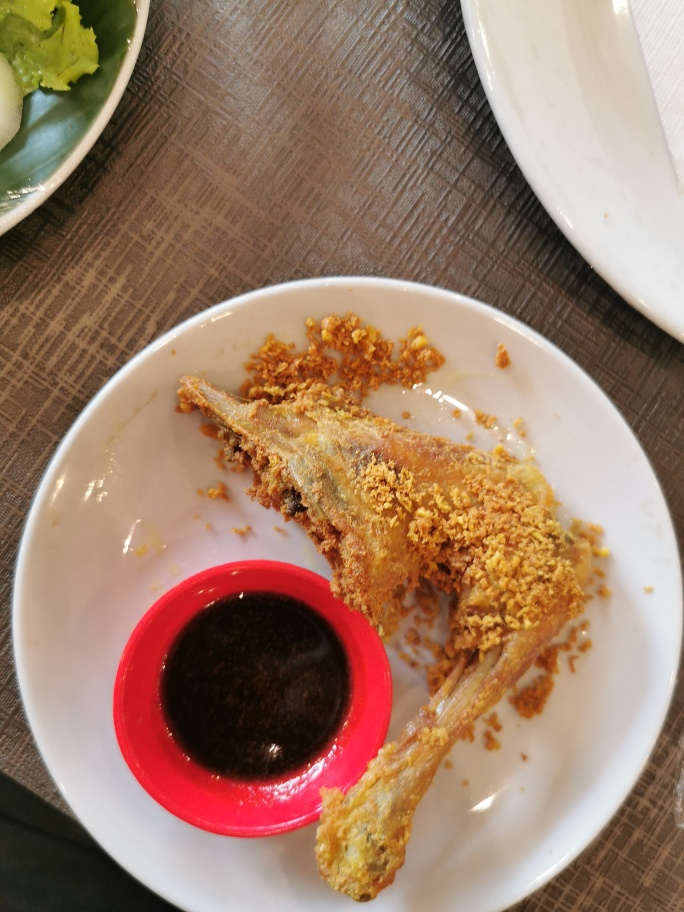ayam goreng: (175, 374, 595, 906)
kecap: (107, 553, 393, 841)
